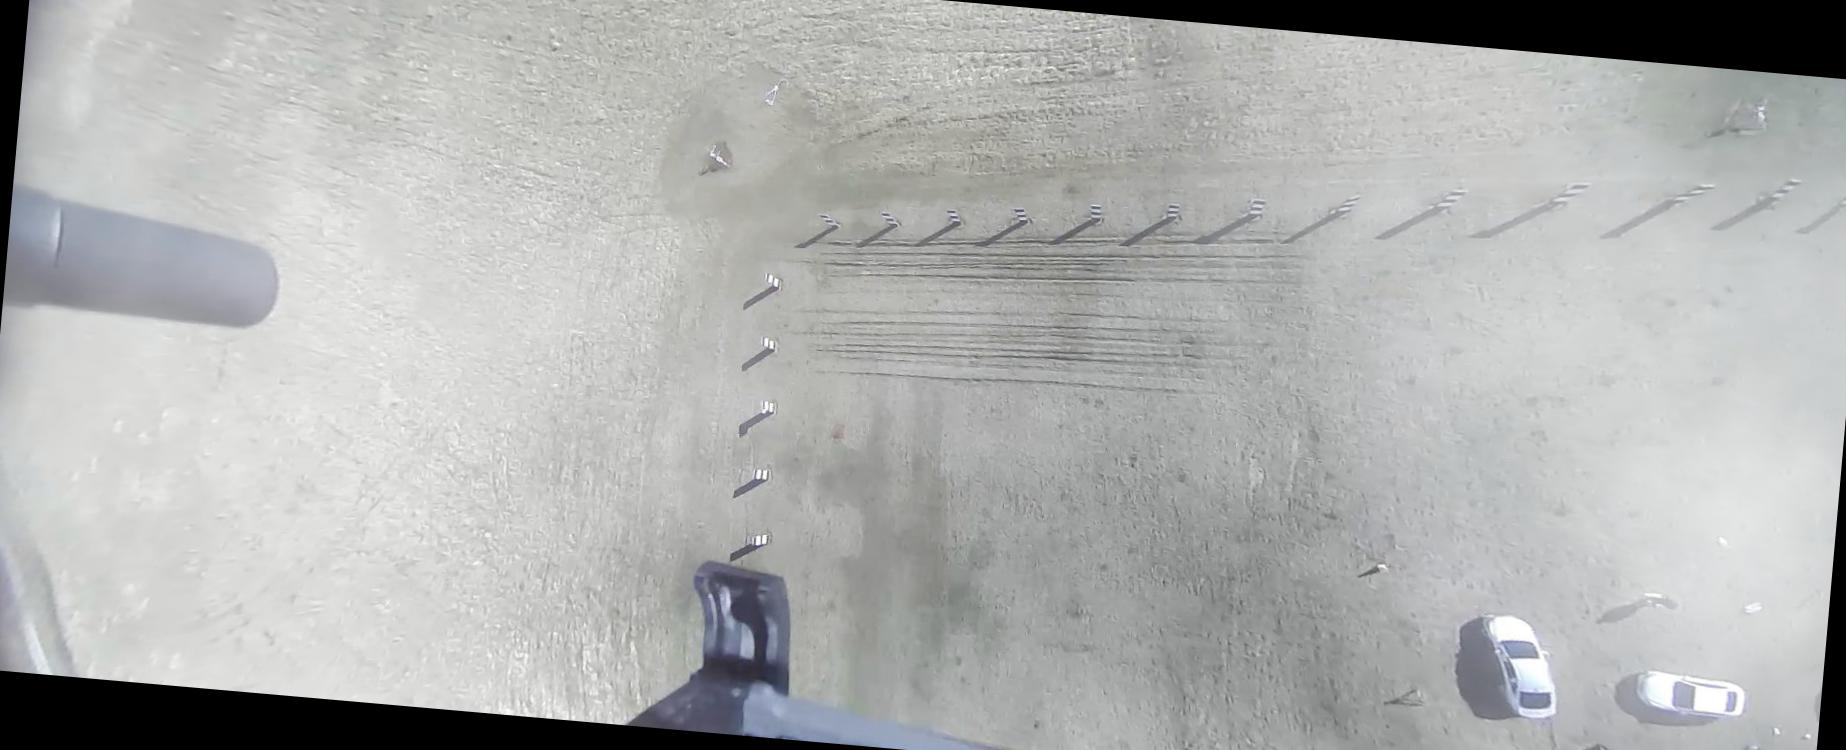vehicle: (1473, 611, 1566, 723), (1634, 669, 1747, 719)
